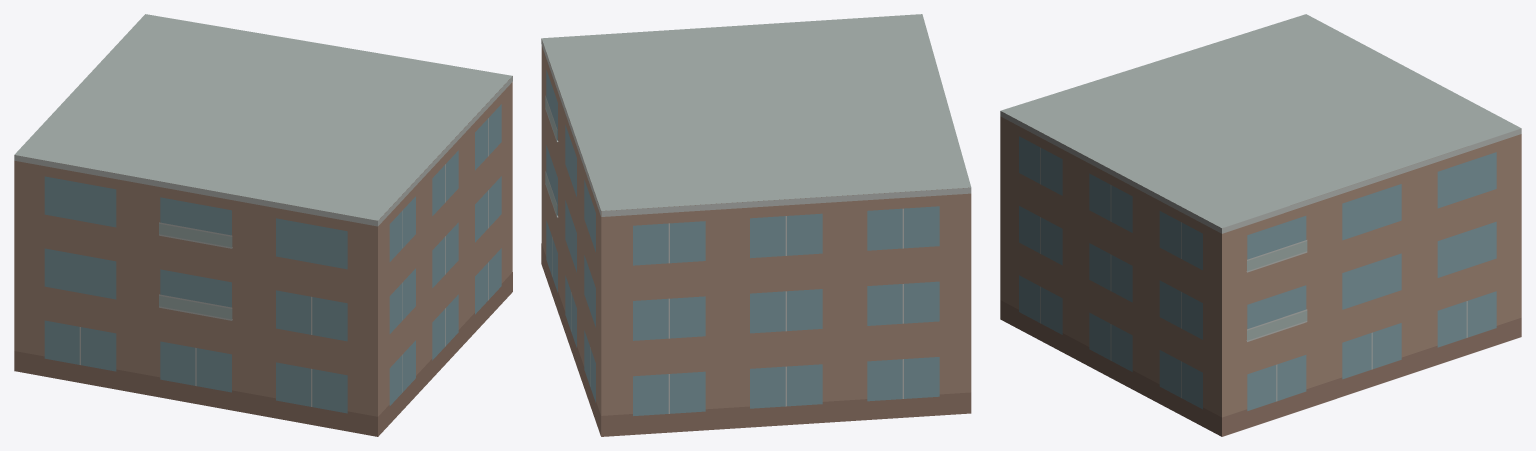
The model's file is survey-upis-32804487.glb.
3 renders of one model, left to right at view 1: azimuth 30°, elevation 25°; view 2: azimuth 150°, elevation 25°; view 3: azimuth 270°, elevation 25°, orthographic. The views are drawn at different scales.
Visible parts, largest first — view 1: survey-upis-32804487.tmp; view 2: survey-upis-32804487.tmp; view 3: survey-upis-32804487.tmp.
Boxes of the visible parts, x1,y1,x2,y2 form: survey-upis-32804487.tmp: [14, 14, 512, 436]; survey-upis-32804487.tmp: [541, 14, 971, 436]; survey-upis-32804487.tmp: [1000, 14, 1521, 436].
Bounding box in the file's own units: 20.17 × 9.15 × 20.73.
